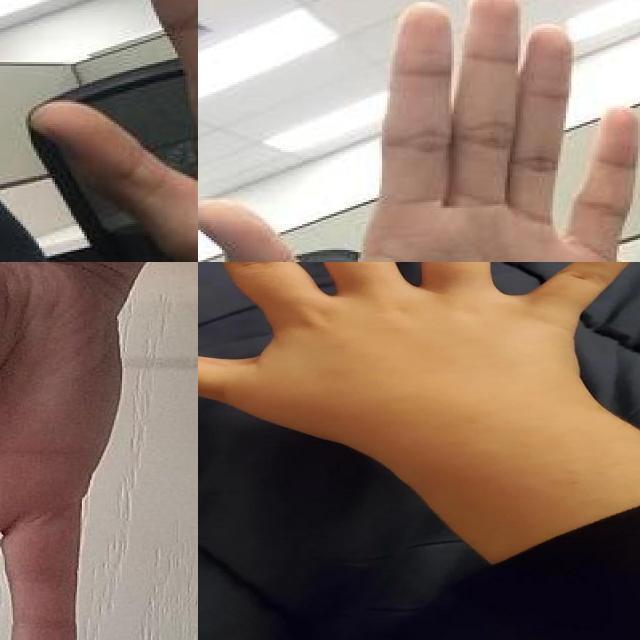no-gloves: (198, 0, 638, 262), (198, 262, 640, 458), (0, 262, 198, 640), (25, 0, 198, 262)
